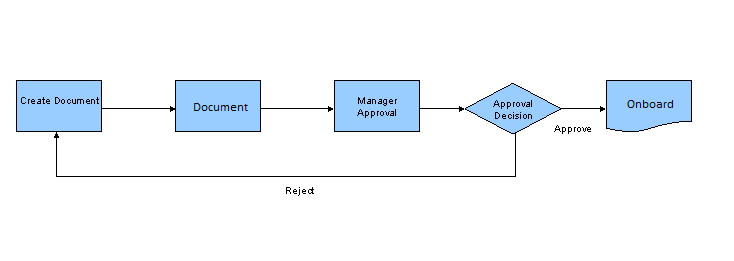arrow: (51, 130, 519, 180), (258, 104, 335, 112), (101, 104, 176, 112), (420, 103, 465, 114), (560, 104, 606, 113)
decision: (465, 82, 564, 135)
process: (331, 77, 422, 135), (172, 78, 263, 135), (13, 78, 104, 134), (603, 78, 694, 133)
text: (355, 95, 400, 118), (491, 98, 538, 119), (19, 94, 99, 106), (190, 99, 249, 113), (552, 122, 595, 137), (625, 97, 676, 109), (284, 184, 317, 197)
